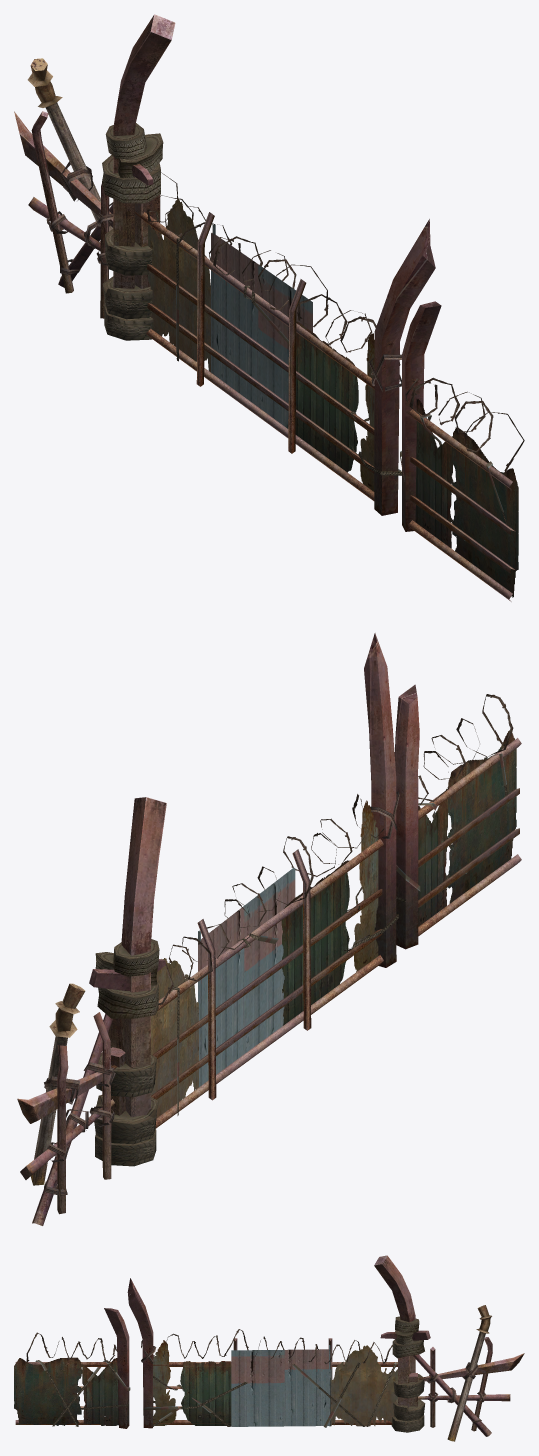
File: Prop_Wj016.glb
The picture shows the model from 3 angles, top to bottom: view 1: azimuth 30°, elevation 25°; view 2: azimuth 150°, elevation 25°; view 3: azimuth 270°, elevation 25°; orthographic projection. The views are drawn at different scales.
Parts seen in each view (by area): view 1: xiutz_wj016_0; view 2: xiutz_wj016_0; view 3: xiutz_wj016_0.
Boxes of the visible parts, bbox=[...] form: xiutz_wj016_0: bbox=[14, 14, 524, 601]; xiutz_wj016_0: bbox=[17, 633, 521, 1225]; xiutz_wj016_0: bbox=[14, 1255, 524, 1441].
Bounding box in the file's own units: 1.42 × 5.81 × 14.98.
Materials: 2 (2 with a texture image).
